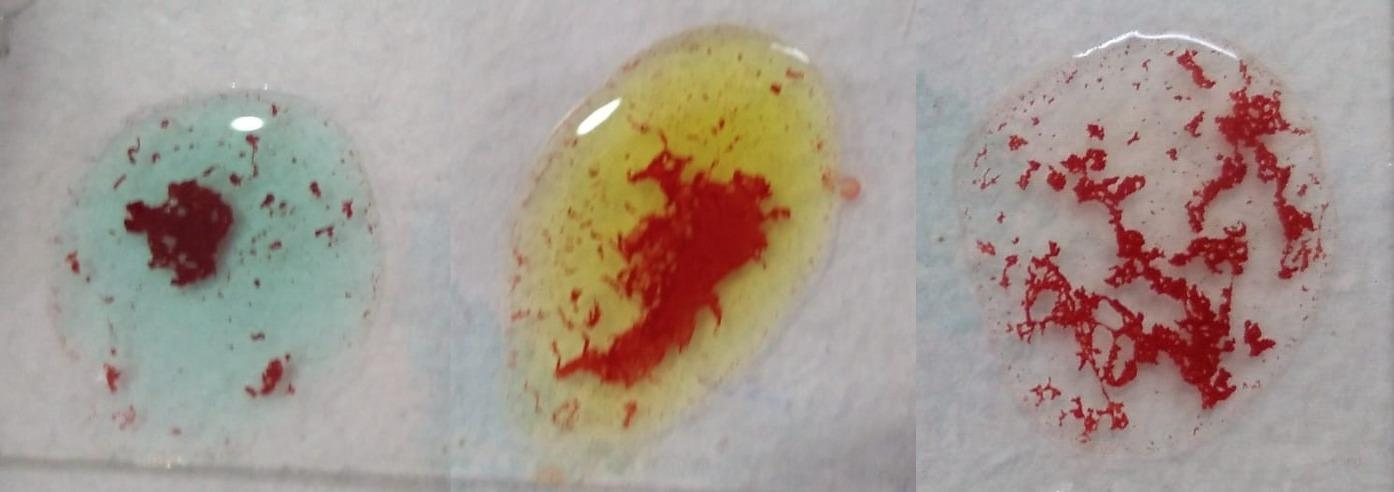A: (65, 94, 375, 420)
B: (504, 18, 814, 431)
D: (957, 34, 1308, 456)
